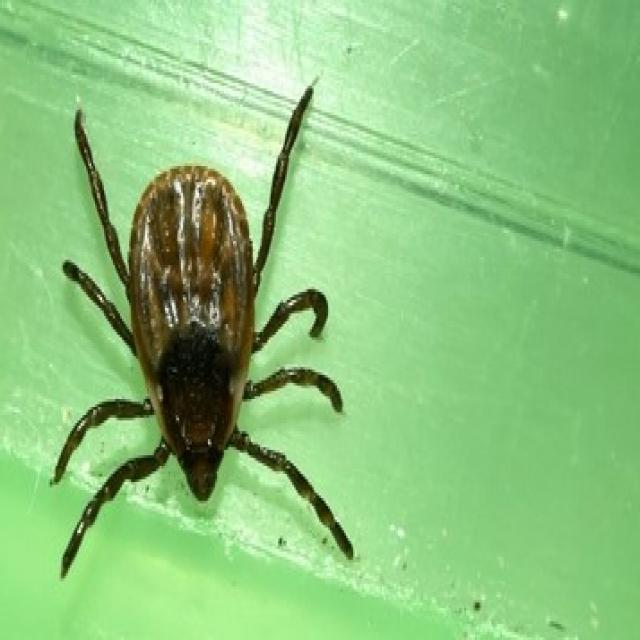Rhipicephalus Sanguineus-F: (52, 88, 353, 576)
